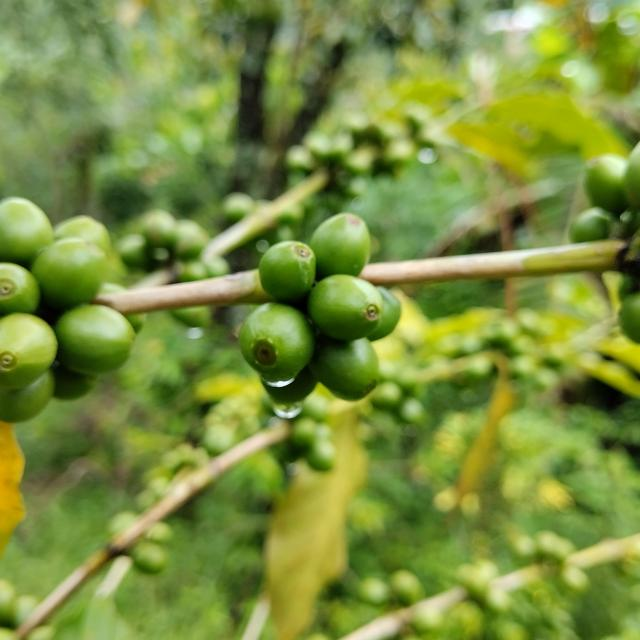green: (239, 302, 315, 387), (53, 305, 134, 375), (30, 237, 107, 309), (308, 274, 383, 341), (309, 338, 380, 401), (0, 313, 57, 390), (310, 212, 371, 279), (0, 196, 53, 267), (259, 241, 316, 303), (0, 370, 54, 423), (53, 215, 110, 254), (0, 263, 39, 315), (368, 286, 402, 341)
